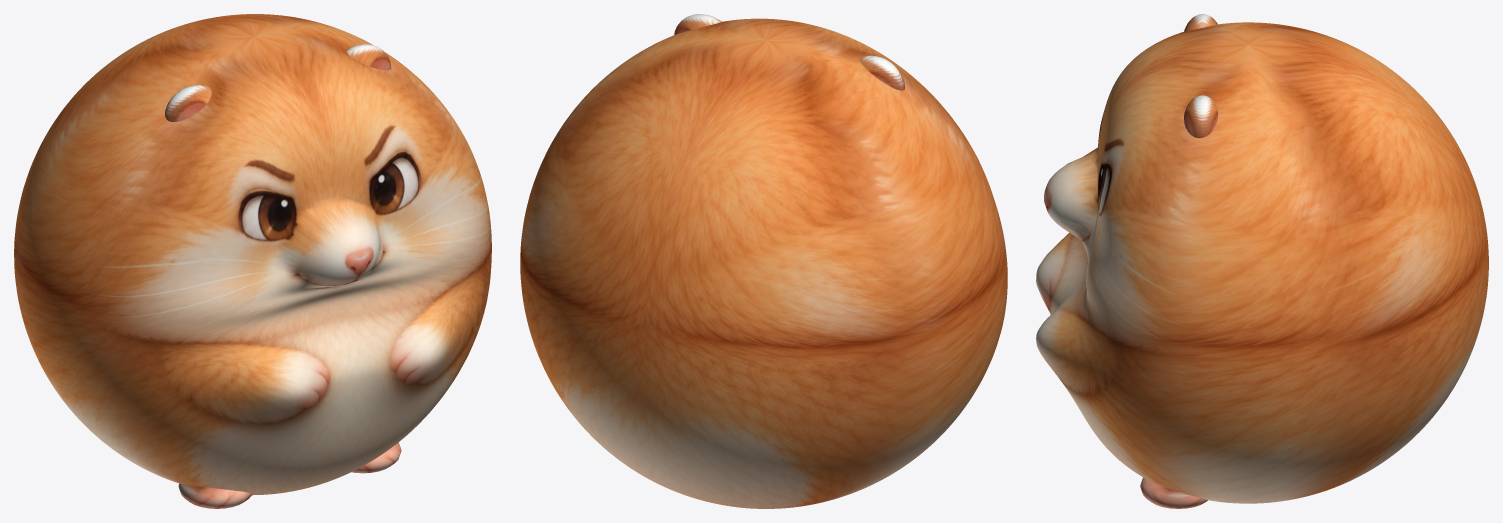
File: hc_hamster_curled_05.glb
3 views of the same model, side by side, from view 1: azimuth 30°, elevation 25°; view 2: azimuth 150°, elevation 25°; view 3: azimuth 270°, elevation 25° (orthographic). The views are drawn at different scales.
Visible parts, largest first — view 1: Hamster reference fitted; view 2: Hamster reference fitted; view 3: Hamster reference fitted.
Boxes of the visible parts, x1,y1,x2,y2 form: Hamster reference fitted: (14, 14, 491, 508); Hamster reference fitted: (520, 14, 1007, 508); Hamster reference fitted: (1036, 14, 1488, 508).
Size of the model in its own units: 2 by 2 by 1.88.
Materials: 3 (3 with a texture image).
